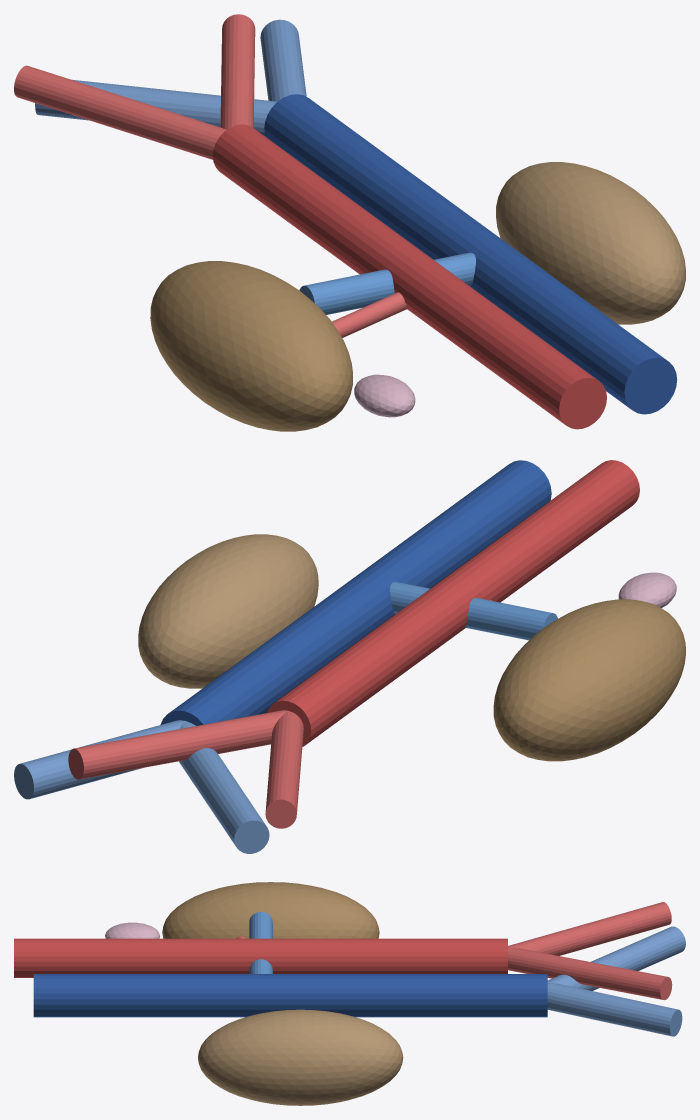
Rendered from synthetic_surgical.glb.
3 renders of one model, top to bottom at view 1: azimuth 30°, elevation 25°; view 2: azimuth 150°, elevation 25°; view 3: azimuth 270°, elevation 25°, orthographic. The views are drawn at different scales.
Parts seen in each view (by area): view 1: SINTETICO_inferior_vena_cava, SINTETICO_kidney_left, SINTETICO_aorta, SINTETICO_kidney_right, SINTETICO_iliac_artery_left, SINTETICO_iliac_artery_right, SINTETICO_renal_vein_left, SINTETICO_iliac_vena_left, SINTETICO_iliac_vena_right, SINTETICO_adrenal_gland_left, SINTETICO_renal_artery_left; view 2: SINTETICO_kidney_left, SINTETICO_inferior_vena_cava, SINTETICO_aorta, SINTETICO_kidney_right, SINTETICO_iliac_artery_right, SINTETICO_iliac_vena_left, SINTETICO_iliac_artery_left, SINTETICO_renal_vein_left, SINTETICO_iliac_vena_right, SINTETICO_adrenal_gland_left; view 3: SINTETICO_inferior_vena_cava, SINTETICO_aorta, SINTETICO_kidney_right, SINTETICO_kidney_left, SINTETICO_iliac_artery_right, SINTETICO_iliac_vena_right, SINTETICO_iliac_artery_left, SINTETICO_iliac_vena_left, SINTETICO_renal_vein_left, SINTETICO_adrenal_gland_left.
Part boxes in pixels (box(x1,y1,x2,y2)): SINTETICO_inferior_vena_cava: box(264, 94, 677, 414); SINTETICO_kidney_left: box(150, 261, 352, 431); SINTETICO_aorta: box(212, 124, 606, 429); SINTETICO_kidney_right: box(496, 162, 685, 324); SINTETICO_iliac_artery_left: box(14, 65, 226, 159); SINTETICO_iliac_artery_right: box(220, 14, 255, 129); SINTETICO_renal_vein_left: box(299, 252, 475, 314); SINTETICO_iliac_vena_left: box(35, 79, 276, 136); SINTETICO_iliac_vena_right: box(260, 19, 306, 101); SINTETICO_adrenal_gland_left: box(354, 374, 415, 417); SINTETICO_renal_artery_left: box(332, 292, 407, 337); SINTETICO_kidney_left: box(493, 599, 685, 761); SINTETICO_inferior_vena_cava: box(160, 460, 551, 725); SINTETICO_aorta: box(267, 460, 639, 746); SINTETICO_kidney_right: box(138, 534, 318, 688); SINTETICO_iliac_artery_right: box(68, 710, 288, 779); SINTETICO_iliac_vena_left: box(179, 721, 269, 853); SINTETICO_iliac_artery_left: box(265, 711, 303, 828); SINTETICO_renal_vein_left: box(390, 582, 557, 640); SINTETICO_iliac_vena_right: box(14, 720, 184, 799); SINTETICO_adrenal_gland_left: box(618, 572, 676, 607); SINTETICO_inferior_vena_cava: box(33, 974, 547, 1017); SINTETICO_aorta: box(14, 938, 507, 977); SINTETICO_kidney_right: box(198, 1009, 403, 1105); SINTETICO_kidney_left: box(162, 882, 379, 938); SINTETICO_iliac_artery_right: box(508, 947, 672, 1000); SINTETICO_iliac_vena_right: box(547, 983, 682, 1036); SINTETICO_iliac_artery_left: box(508, 902, 671, 955); SINTETICO_iliac_vena_left: box(547, 926, 685, 990); SINTETICO_renal_vein_left: box(249, 912, 272, 973); SINTETICO_adrenal_gland_left: box(105, 922, 159, 938).
Size of the model in its own units: 204 by 50.99 by 340.
